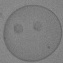small: (13, 24, 25, 33), (33, 22, 42, 31)
